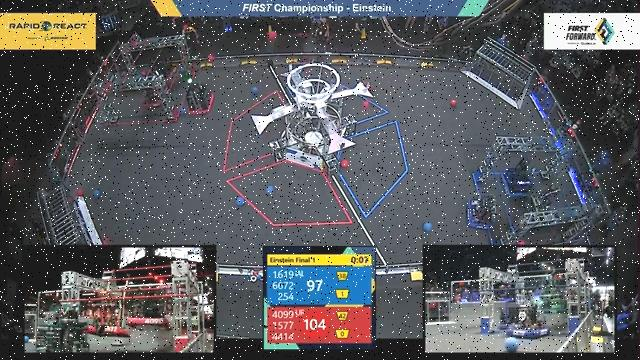Robot: (521, 183, 565, 227), (459, 189, 502, 232), (498, 155, 535, 197), (142, 49, 177, 91), (180, 79, 215, 116), (135, 72, 167, 111)
